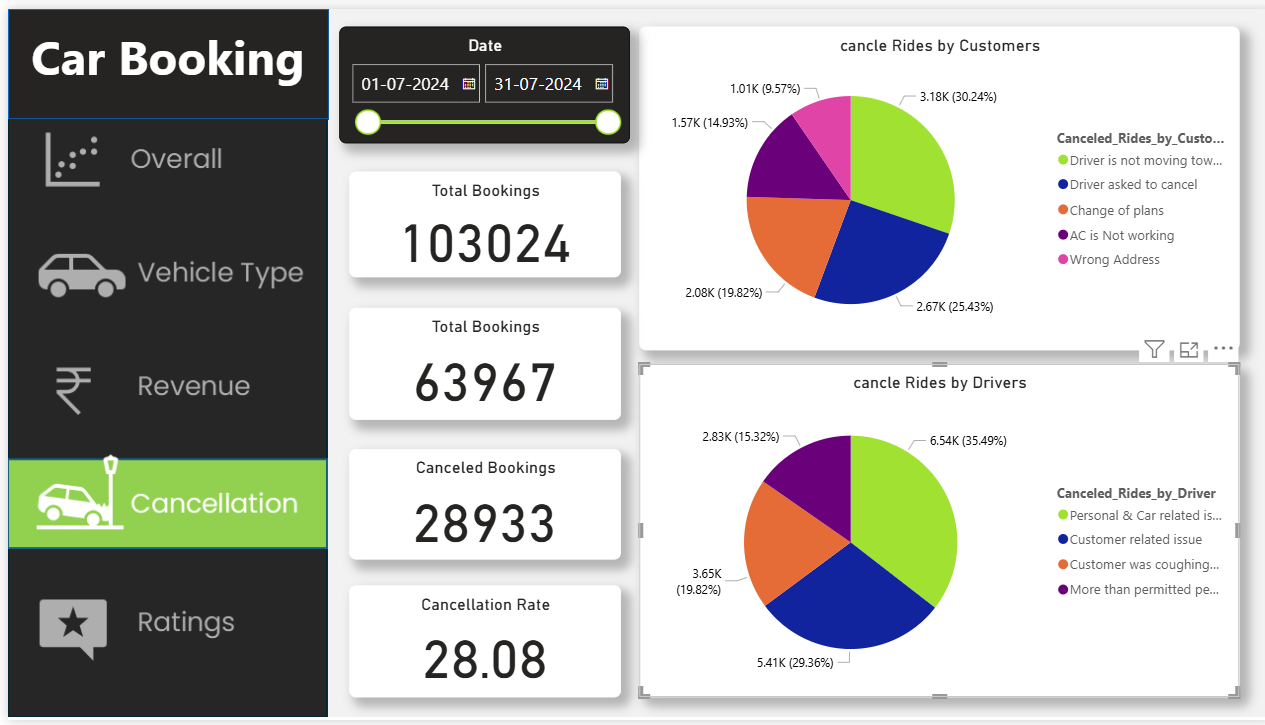

The dashboard page shown, as its layout file describes it:
{"tool":"powerbi","page":{"name":"Cancellation","canvas":[1280,720],"ordinal":3},"visuals":[{"type":"actionButton","box":[0,226.8,324.5,88.1],"z":0},{"type":"actionButton","box":[0,338.8,325,91.2],"z":1000},{"type":"actionButton","box":[0,456.2,325,91.2],"z":2000},{"type":"actionButton","box":[0,581.2,325,90],"z":3000},{"type":"pieChart","title":"cancle Rides by Customers","fields":{"Category":["Booking.Canceled_Rides_by_Customer"],"Y":["CountNonNull(Booking.Canceled_Rides_by_Customer)"]},"box":[639.4,18.1,608,328.2],"z":4000},{"type":"pieChart","title":"cancle Rides by Drivers","fields":{"Category":["Booking.Canceled_Rides_by_Driver"],"Y":["CountNonNull(Booking.Canceled_Rides_by_Driver)"]},"box":[639.4,359.5,608,337.8],"z":5000},{"type":"slicer","title":"Date","fields":{"Values":["Booking.Date"]},"box":[335.4,18.1,294.4,118.2],"z":6000},{"type":"card","title":"Cancellation Rate","fields":{"Values":["Booking.CancelBookingpercentage"]},"box":[345,583.9,275.1,113.4],"z":7000},{"type":"card","title":"Canceled Bookings","fields":{"Values":["Count(Booking.Booking_ID)"]},"box":[345,445.2,275.1,112.2],"z":8000},{"type":"card","title":"Total Bookings","fields":{"Values":["CountNonNull(Booking.Booking_ID)"]},"box":[345,164.1,275.1,107.4],"z":9000},{"type":"card","title":"Total Bookings","fields":{"Values":["CountNonNull(Booking.Booking_ID)"]},"box":[345,302.8,275.1,113.4],"z":10000},{"type":"shape","box":[0,0,325,111.7],"z":11000},{"type":"textbox","box":[0,10,323.8,82.5],"z":12000}]}

Visuals, with their boxes in screenshot pixels (x1, y1, x2, y2), scaled from the page's 1280x720 canvas onto the 1265x725 screenshot:
actionButton: <region>0, 228, 321, 317</region>
actionButton: <region>0, 341, 321, 433</region>
actionButton: <region>0, 459, 321, 551</region>
actionButton: <region>0, 585, 321, 676</region>
"cancle Rides by Customers" pieChart: <region>632, 18, 1233, 349</region>
"cancle Rides by Drivers" pieChart: <region>632, 362, 1233, 702</region>
"Date" slicer: <region>331, 18, 622, 137</region>
"Cancellation Rate" card: <region>341, 588, 613, 702</region>
"Canceled Bookings" card: <region>341, 448, 613, 561</region>
"Total Bookings" card: <region>341, 165, 613, 273</region>
"Total Bookings" card: <region>341, 305, 613, 419</region>
shape: <region>0, 0, 321, 112</region>
textbox: <region>0, 10, 320, 93</region>
